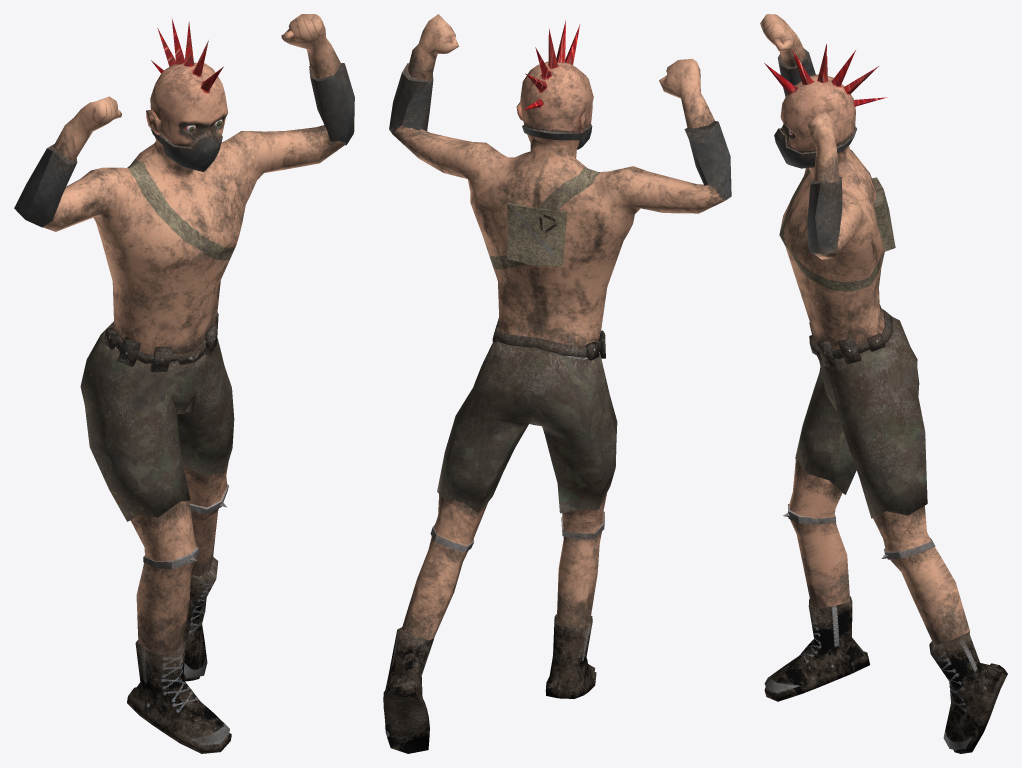
File: Anim_ganar_1_npc2.0027.obj
3 renders of one model, left to right at view 1: azimuth 30°, elevation 25°; view 2: azimuth 150°, elevation 25°; view 3: azimuth 270°, elevation 25°, orthographic. The views are drawn at different scales.
Visible parts, largest first — view 1: polySurface1; view 2: polySurface1; view 3: polySurface1.
Part boxes in pixels (box(x1,y1,x2,y2)): polySurface1: box(14, 14, 354, 753); polySurface1: box(383, 14, 731, 753); polySurface1: box(760, 14, 1007, 753).
Bounding box in the file's own units: 5.25 × 10.61 × 3.52.
2 materials, 2 textured.
